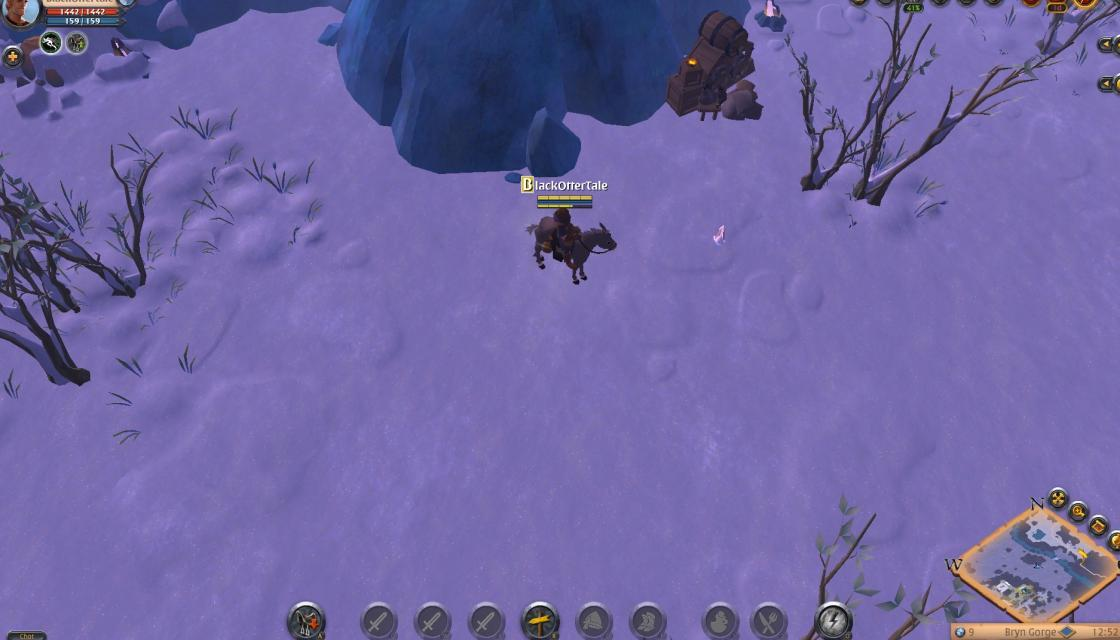copperore: (103, 32, 142, 66), (753, 0, 790, 33)
